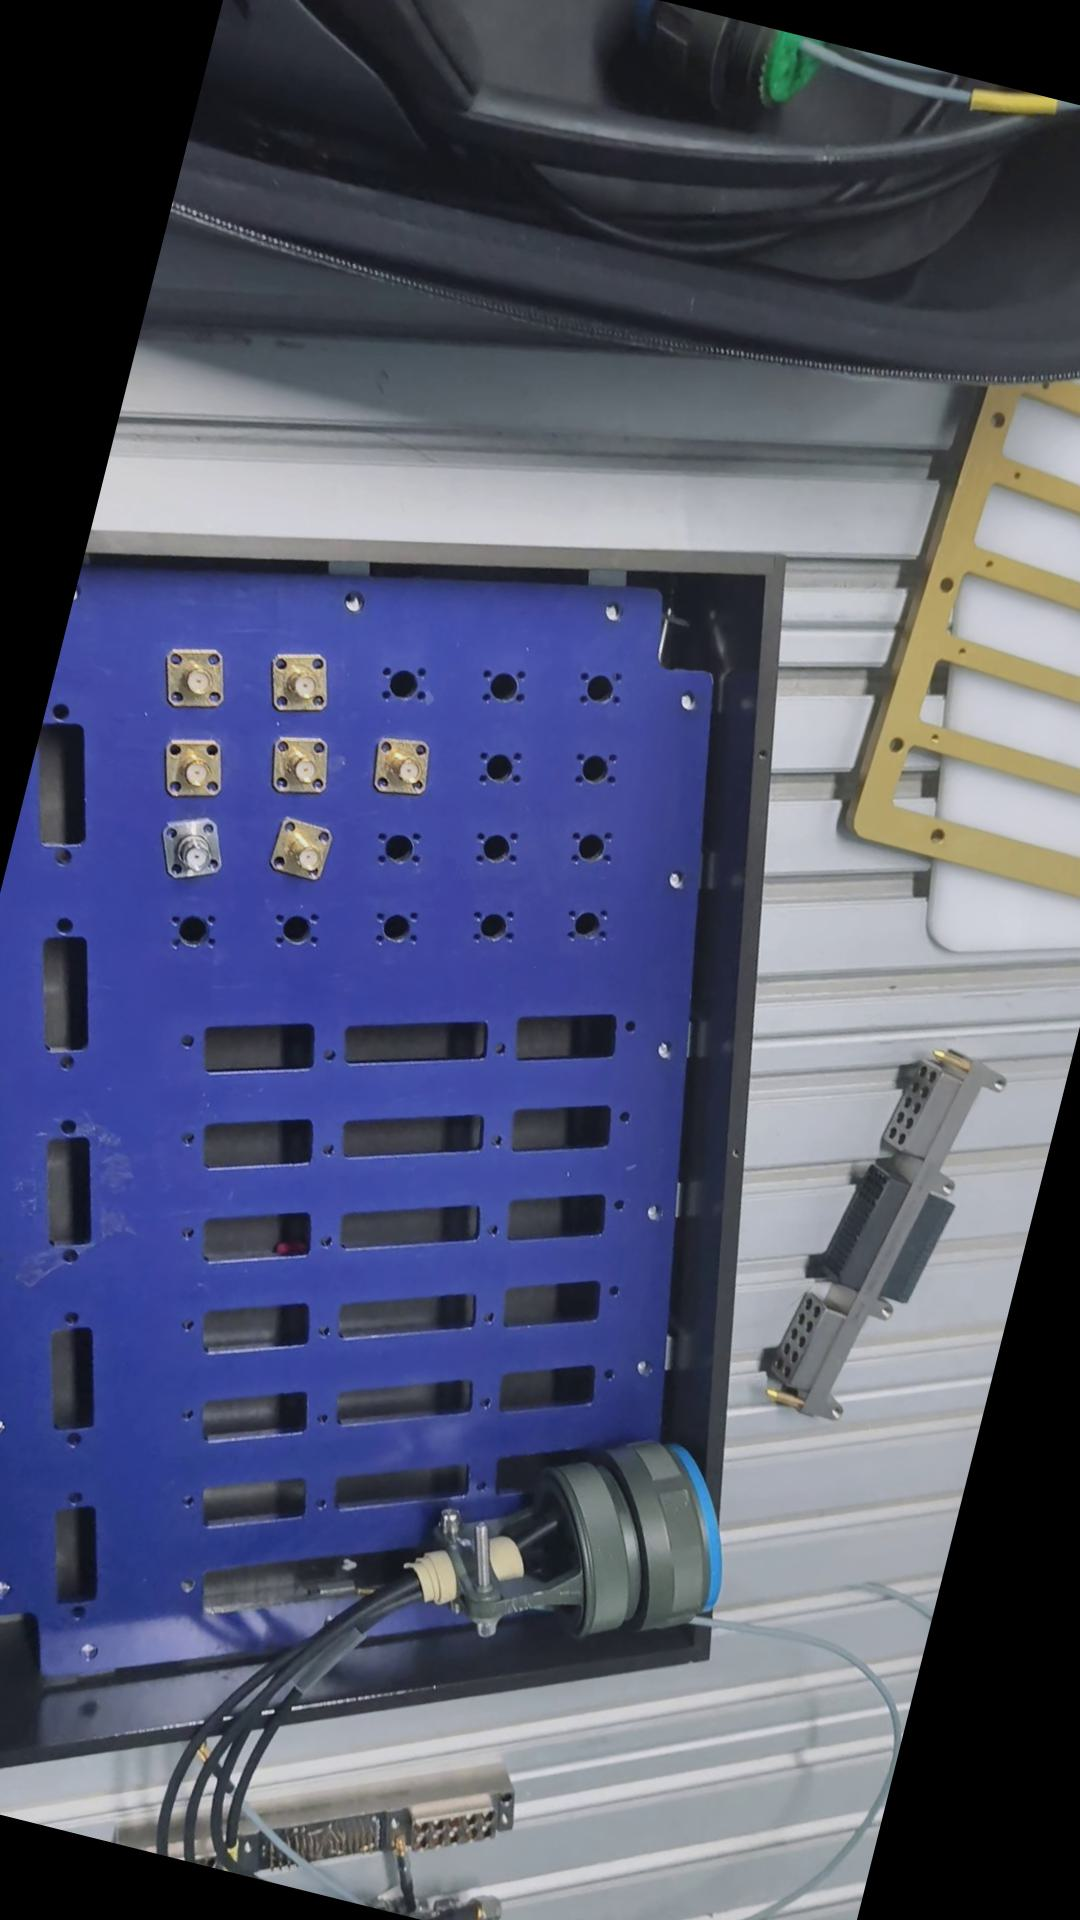SMA: (153, 804, 237, 891), (158, 728, 243, 807), (262, 725, 343, 804), (156, 640, 235, 719), (266, 814, 345, 889), (266, 646, 342, 721), (367, 735, 442, 806)
